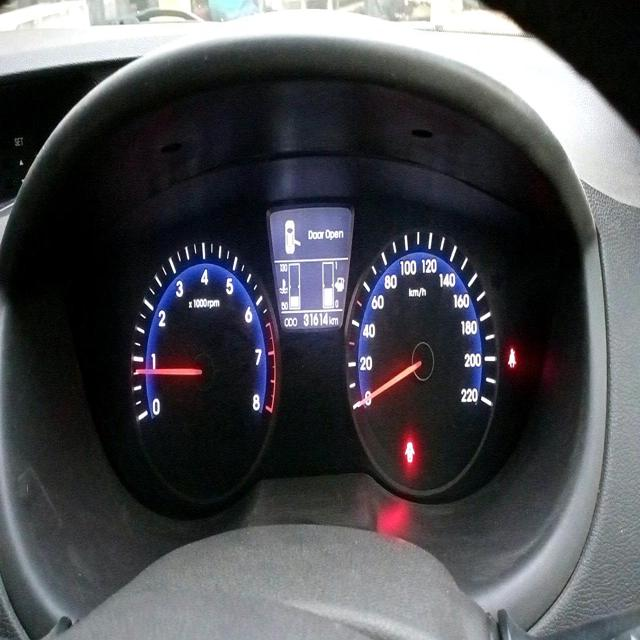odometer: (301, 312, 328, 330)
